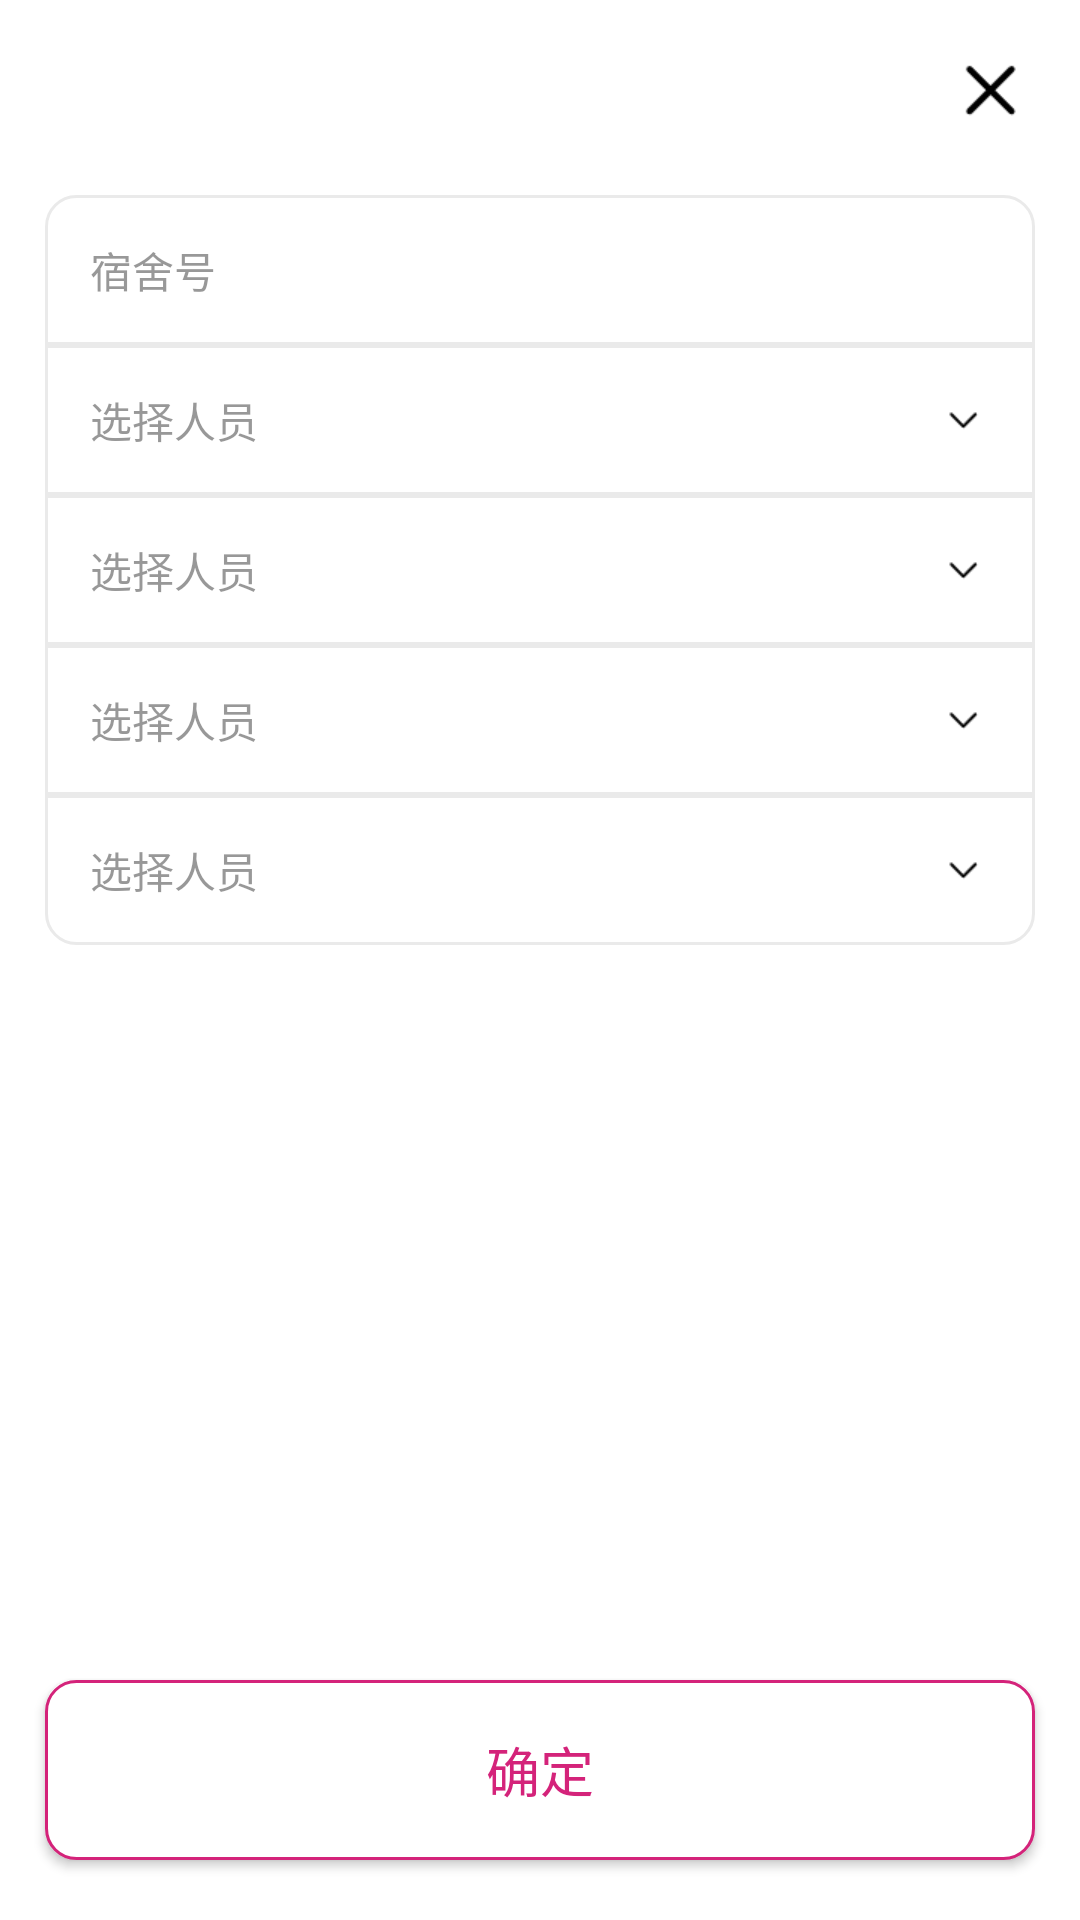

Where icons sit on this 1080px x 1920px app screen, as (x1, y1, x2, y2):
more pull: (949, 412, 977, 429), (949, 562, 977, 579), (949, 712, 977, 729), (949, 862, 977, 879)
